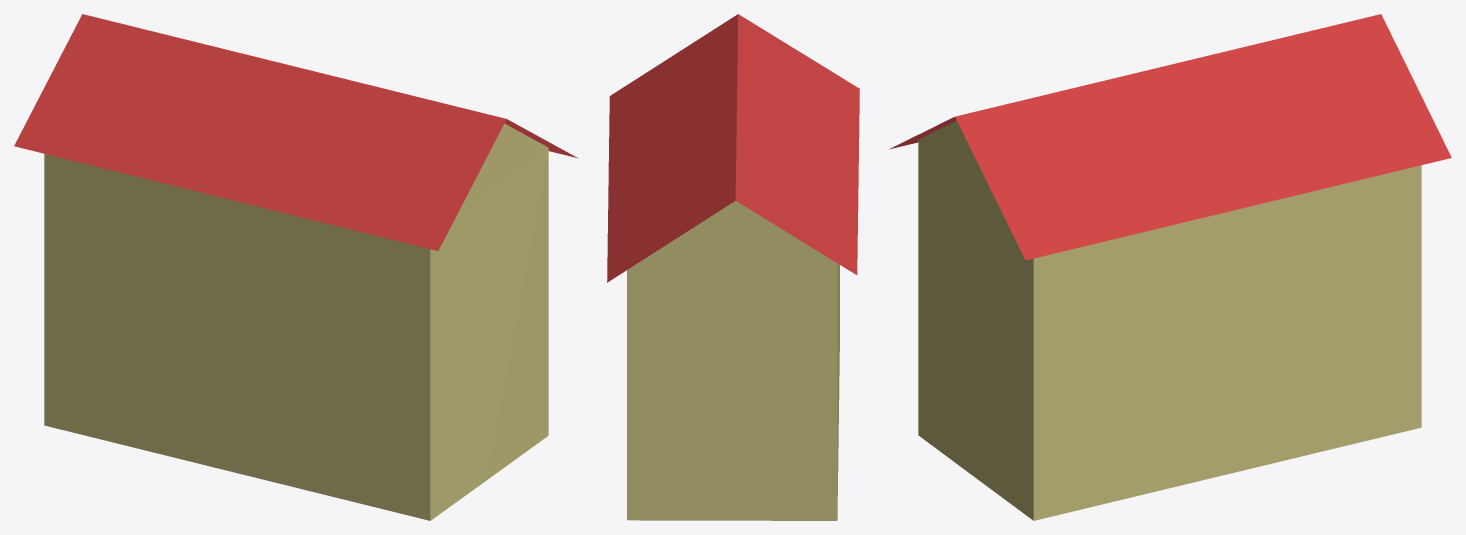
The picture shows the model from 3 angles, left to right: view 1: azimuth 30°, elevation 25°; view 2: azimuth 150°, elevation 25°; view 3: azimuth 270°, elevation 25°; orthographic projection. The views are drawn at different scales.
Bounding box in the file's own units: 16.43 × 19.13 × 13.65.
